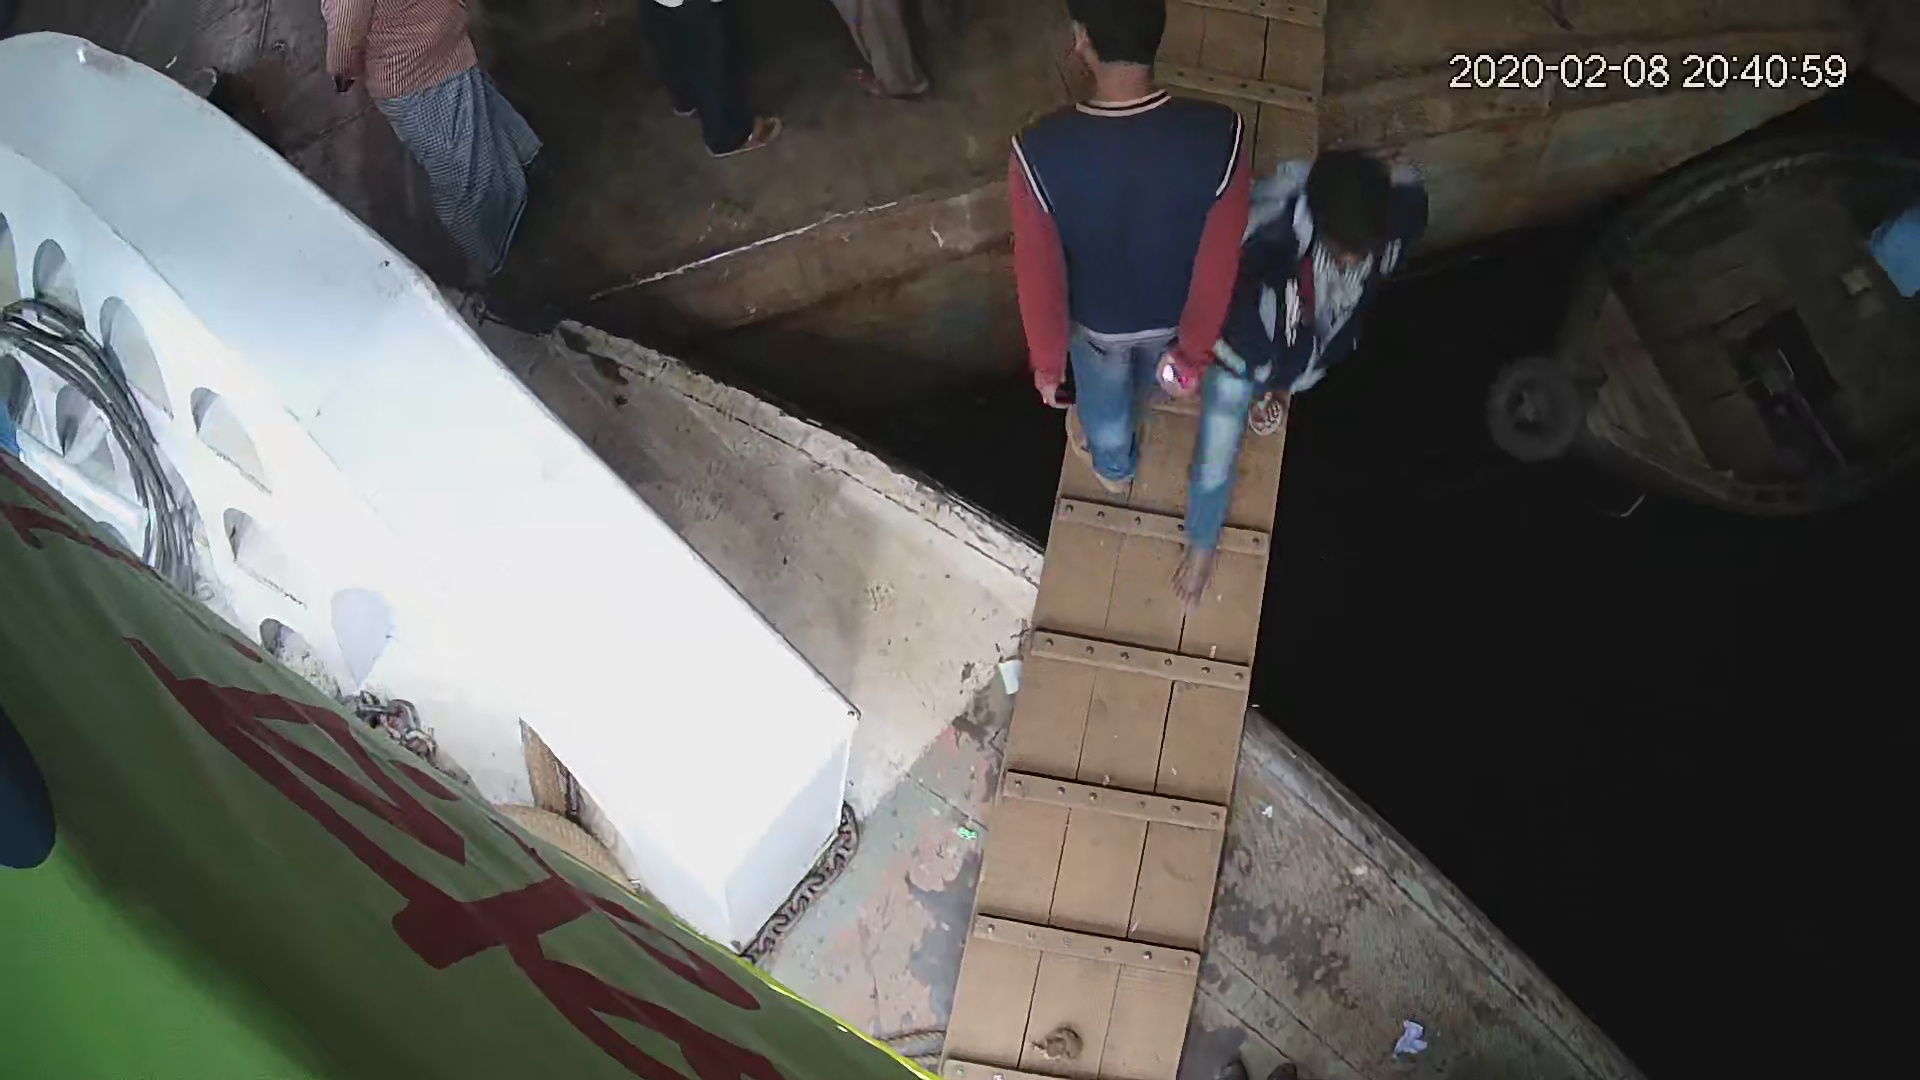person: (1165, 134, 1438, 609), (996, 1, 1250, 505), (314, 1, 536, 291)
